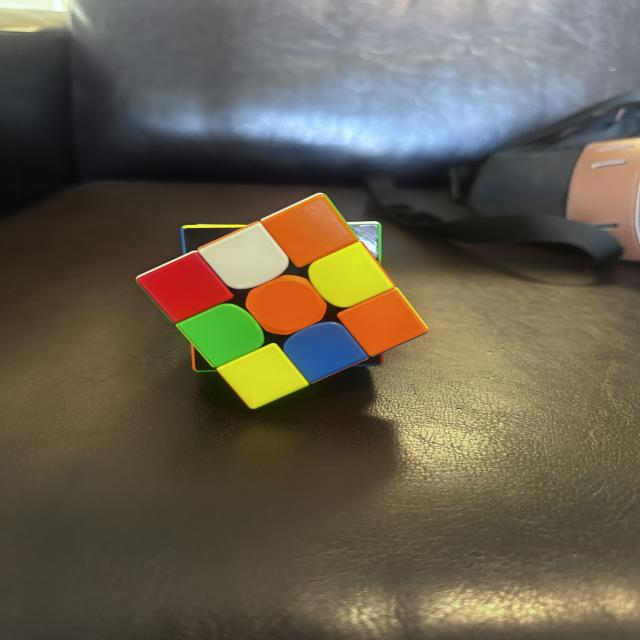sticker: (259, 194, 359, 268), (135, 252, 235, 324), (336, 287, 429, 358), (198, 221, 290, 291), (215, 343, 308, 409), (308, 242, 395, 308), (178, 304, 264, 369), (282, 322, 368, 384), (245, 274, 326, 336)
